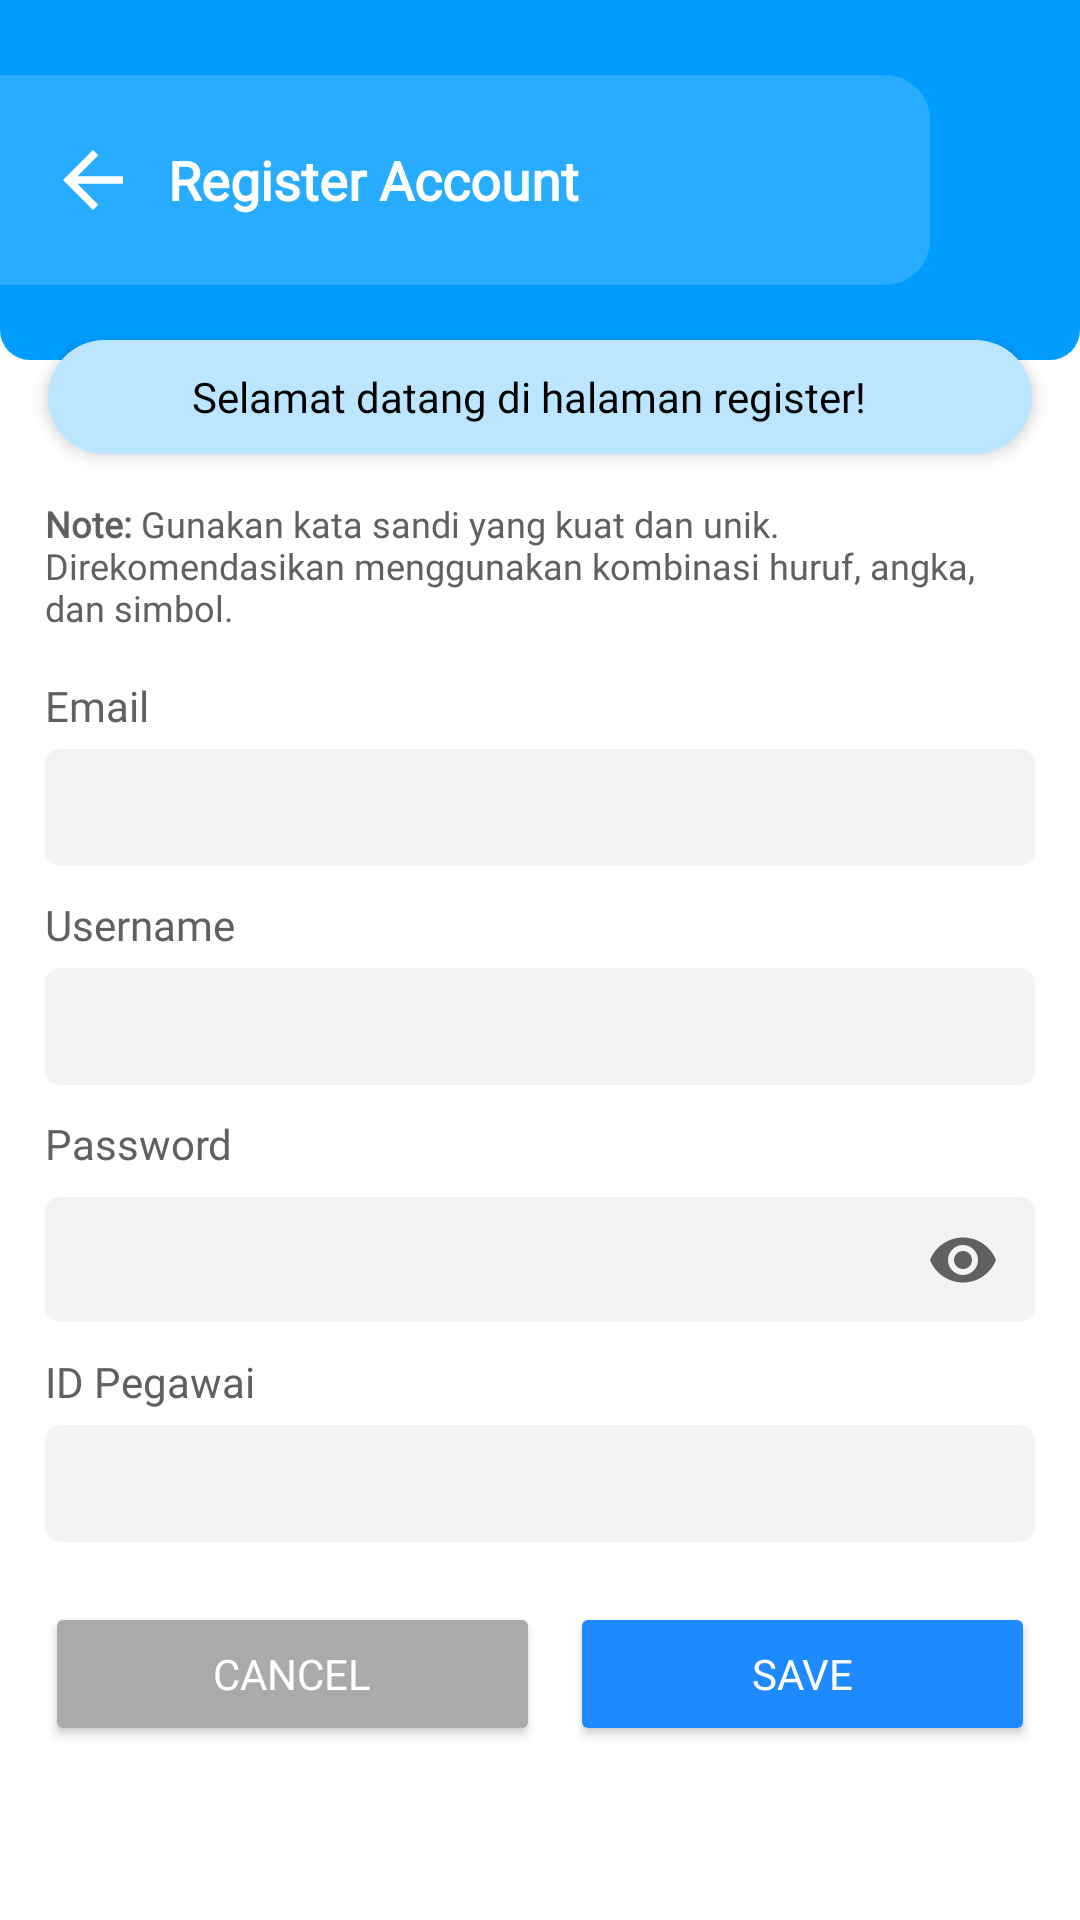

Screen size 1080px×1920px. Icon name, then its box in pixels as (x1, y1, x2, y2):
Back: (63, 150, 123, 210)
